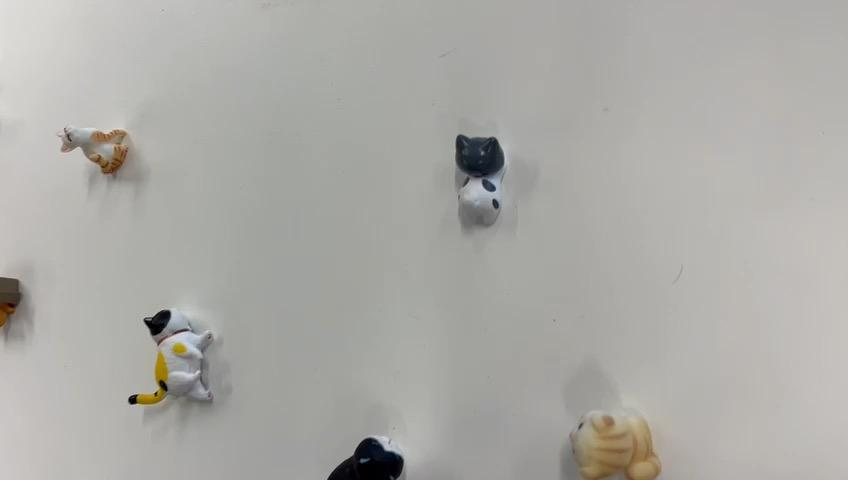pet: (111, 259, 240, 433), (563, 376, 675, 480), (441, 111, 520, 250), (46, 116, 152, 202)
